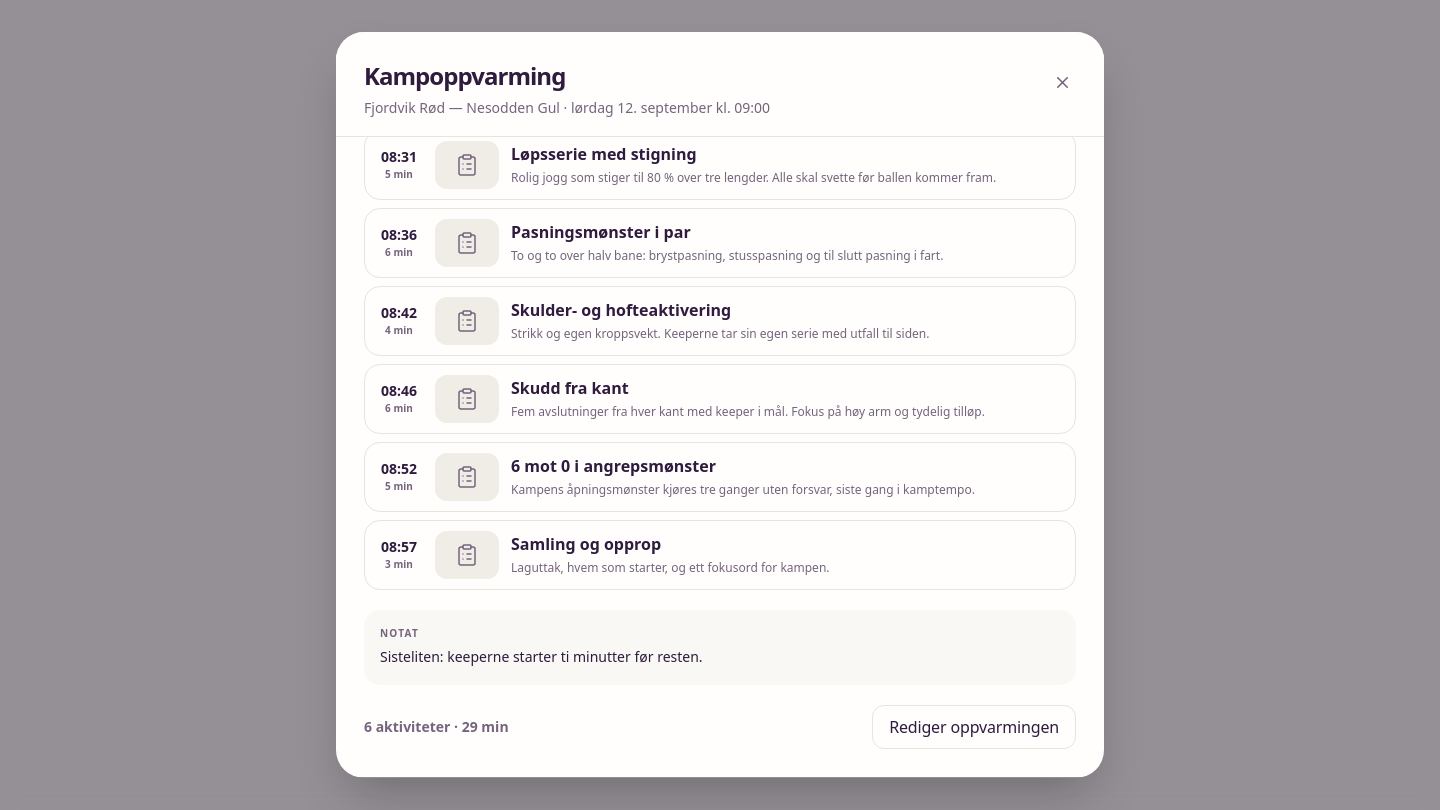
Test: WarmupDialog › swaps the sheet to the exercise picker instead of stacking a dialog
The image size is (1440, 810).
(page scrolled)
Click the button "Rediger oppvarmingen".
click(974, 727)  # box [872, 705, 1076, 749]
(page scrolled)
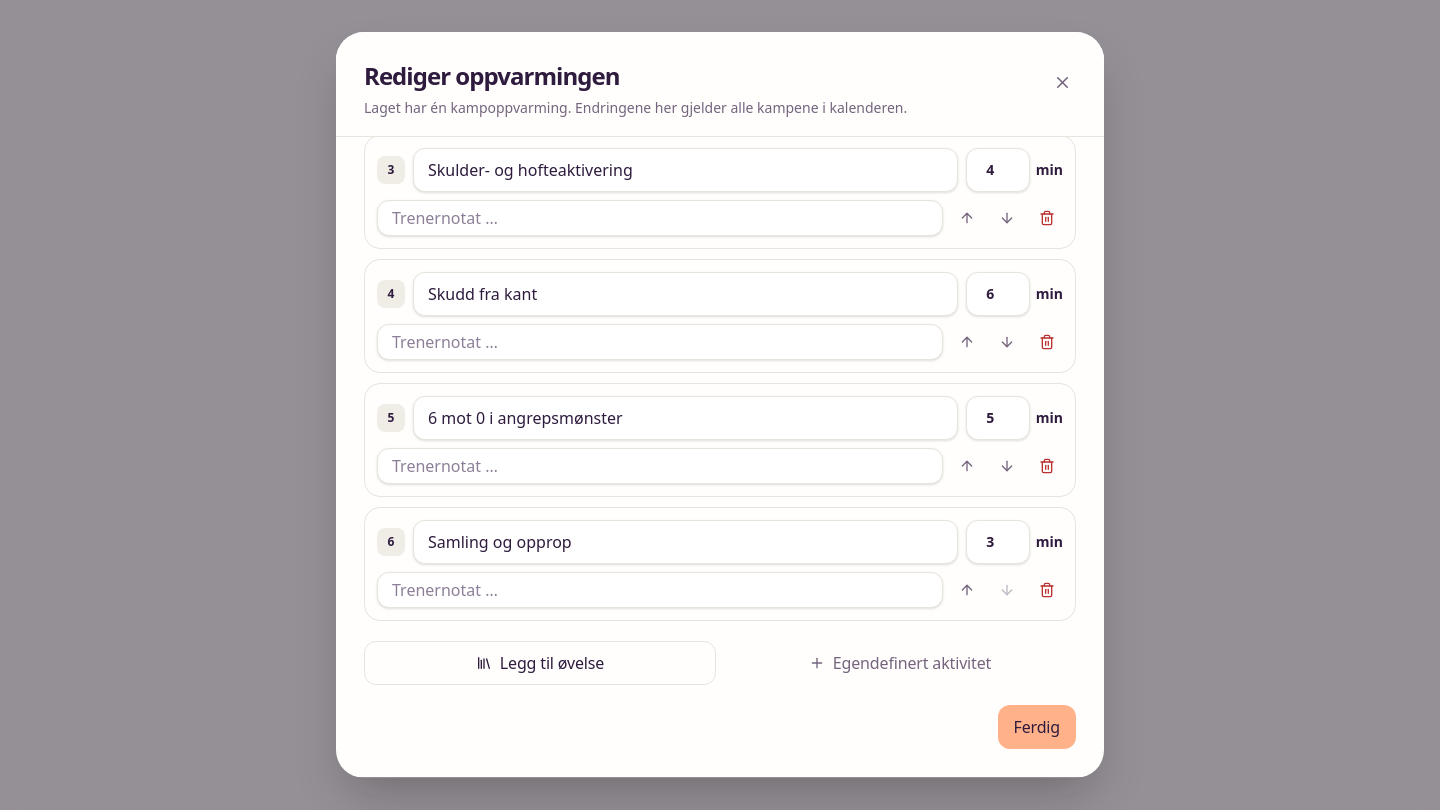
Click the button "Legg til øvelse".
click(540, 663)  # box [364, 641, 716, 685]
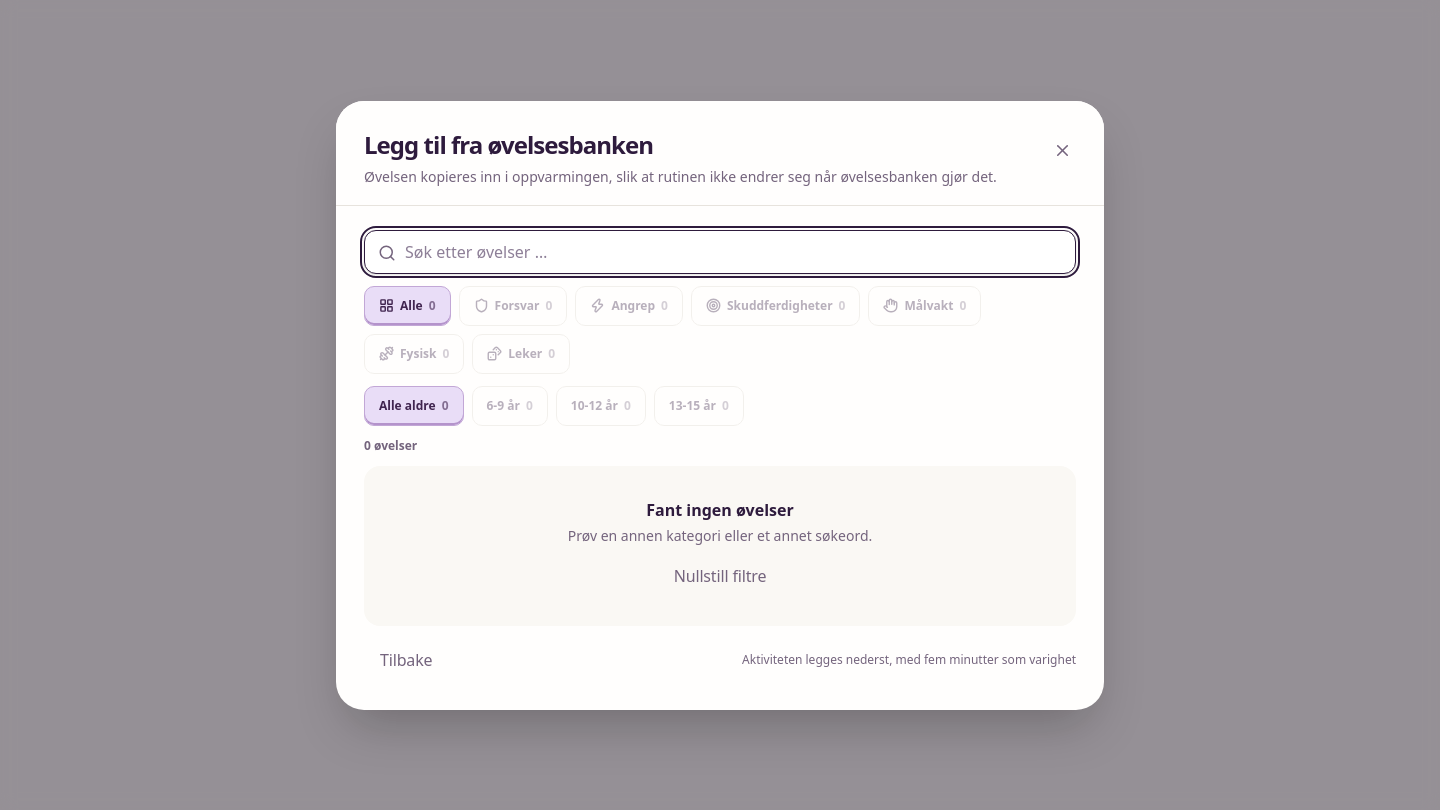
Expected: the number of dialogs is 1, [336, 100, 1104, 710]
Expected: the heading "Legg til fra øvelsesbanken" is shown, [364, 128, 653, 160]
Click the button "Tilbake".
click(406, 660)  # box [364, 638, 448, 682]
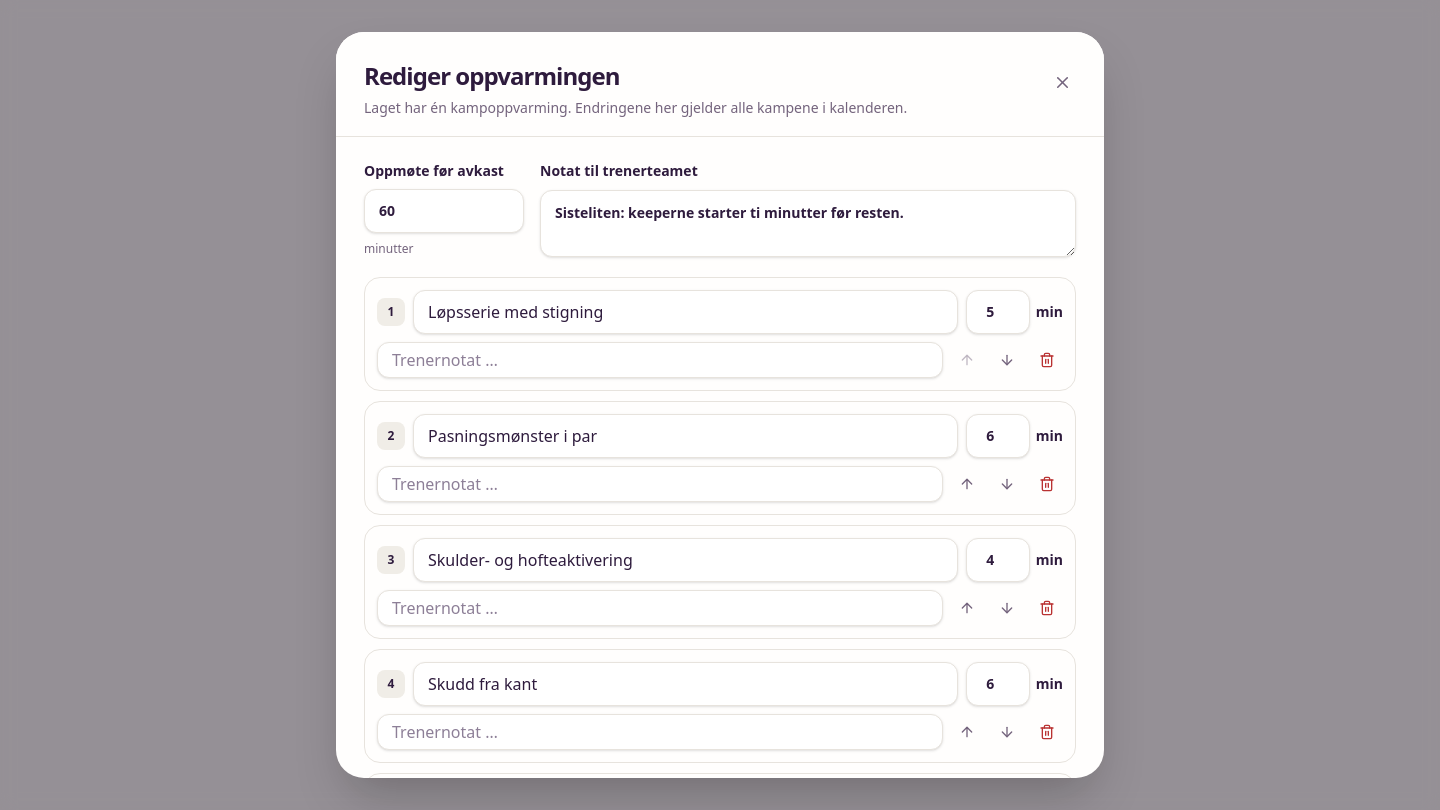
Expected: the heading "Rediger oppvarmingen" is shown, [364, 59, 620, 92]
